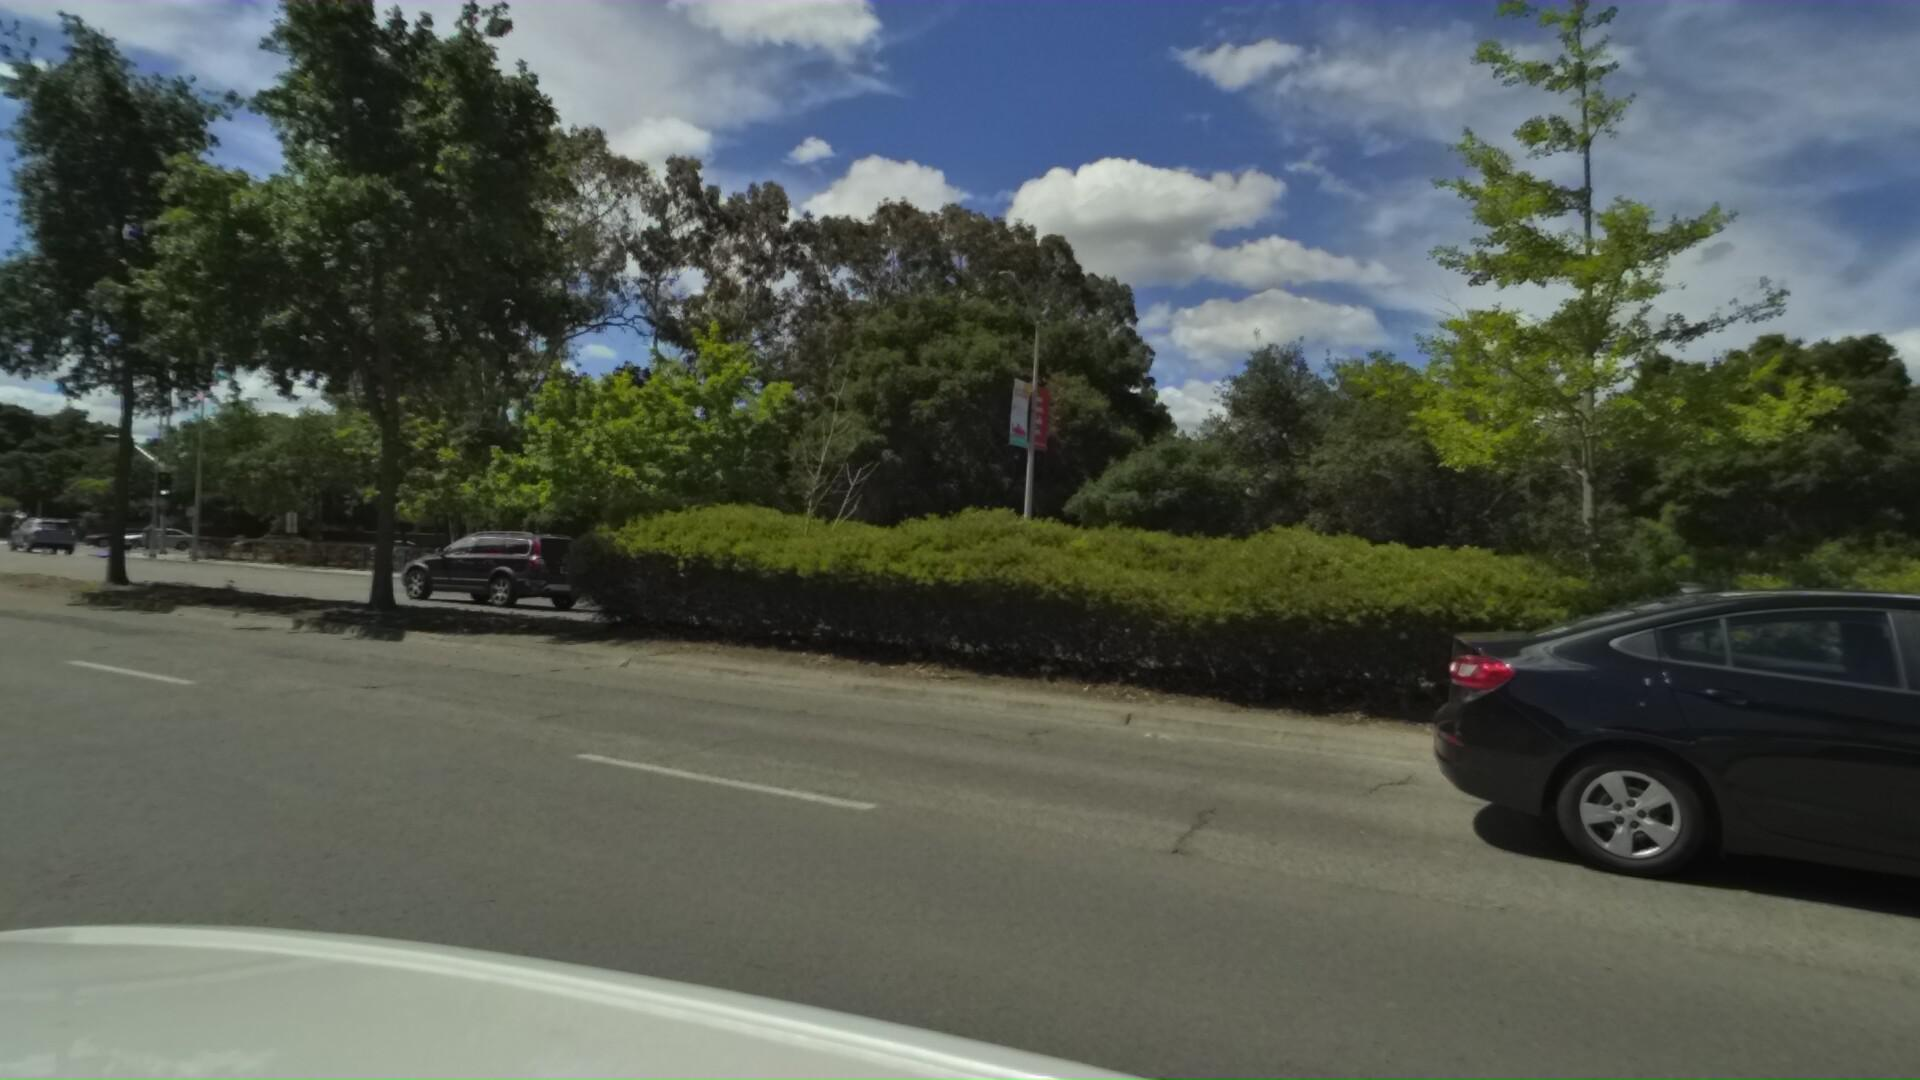car: (1482, 570, 1920, 1080), (367, 524, 566, 611), (0, 516, 75, 556), (103, 526, 196, 555), (74, 526, 167, 553)
